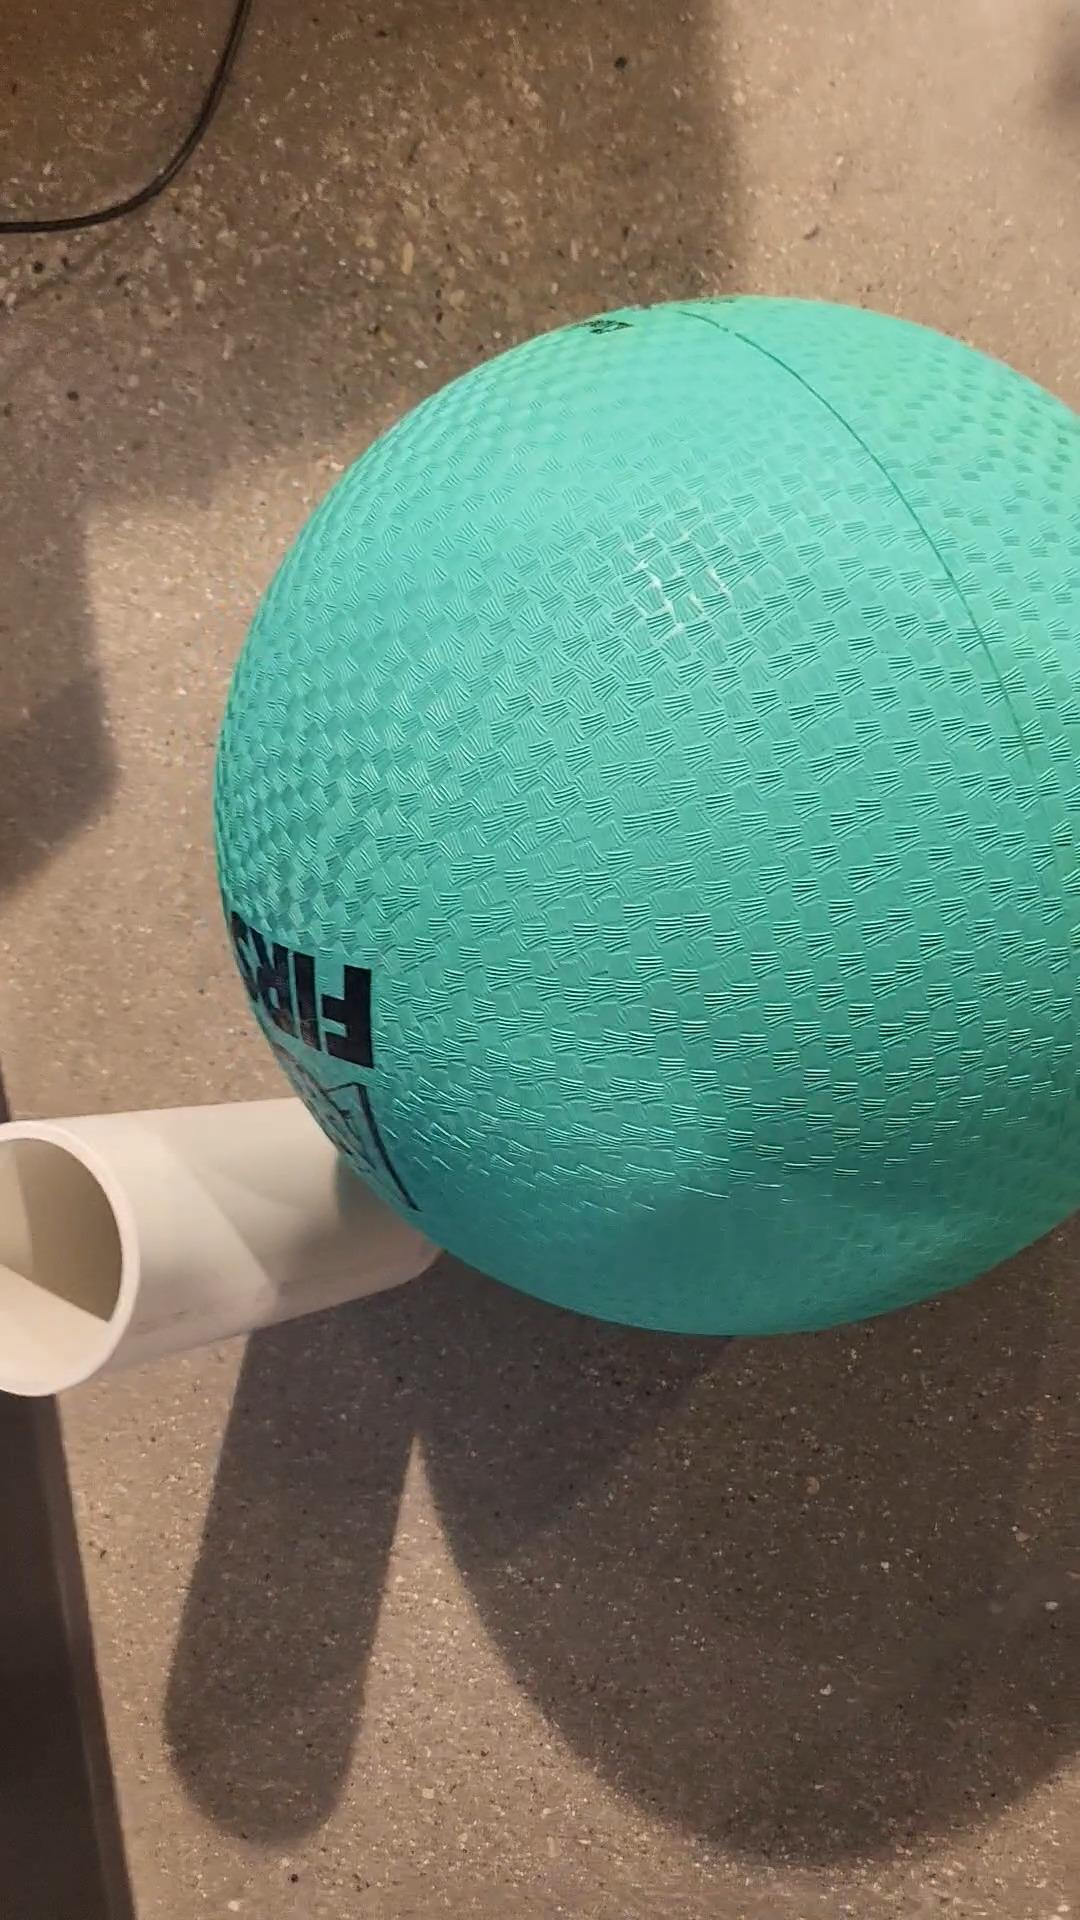algae: (215, 295, 1080, 1337)
coral: (0, 1102, 435, 1395)
